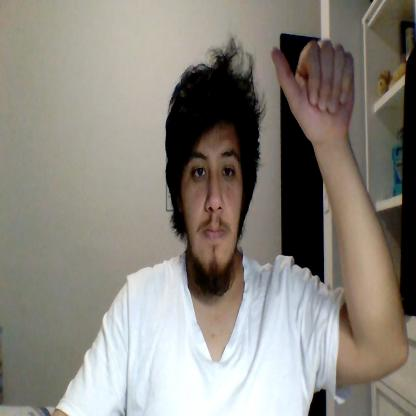A: (272, 39, 354, 141)
